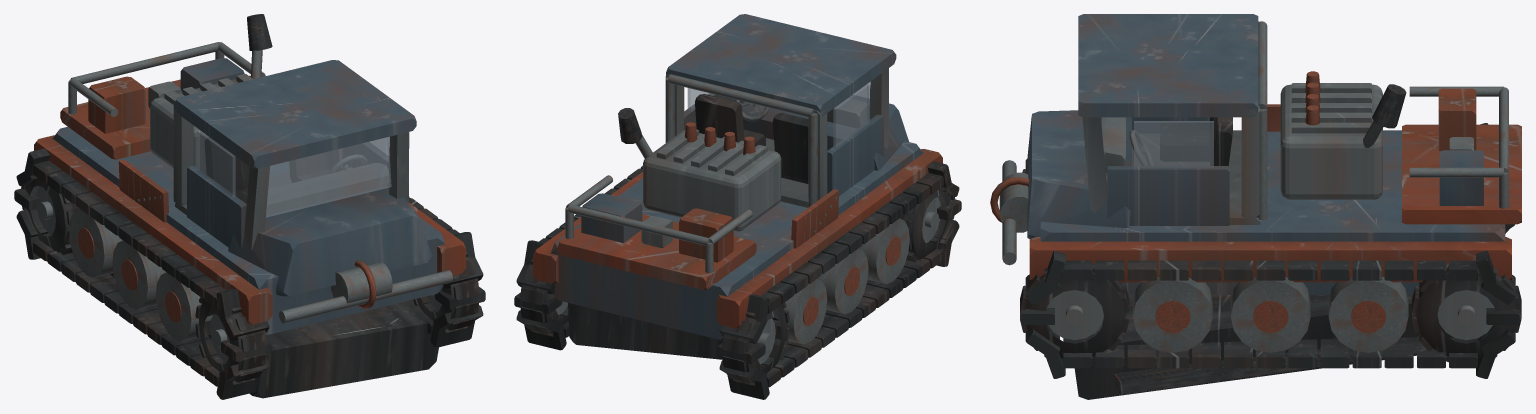
The model's file is rebelCrawler.glb.
The picture shows the model from 3 angles, left to right: view 1: azimuth 30°, elevation 25°; view 2: azimuth 150°, elevation 25°; view 3: azimuth 270°, elevation 25°; orthographic projection. The views are drawn at different scales.
Visible parts, largest first — view 1: rebelCrawler_body, wreckage_crawler_hull, rebelCrawler_glass, wheel_front_left, wheel_rear_left, wheel_front_right; view 2: rebelCrawler_body, wreckage_crawler_hull, wheel_rear_left, wheel_front_left, rebelCrawler_glass, wheel_rear_right; view 3: rebelCrawler_body, wreckage_crawler_hull, wheel_front_right, wheel_rear_right, rebelCrawler_glass.
Part boxes in pixels (bbox=[...]): rebelCrawler_body: bbox=[14, 14, 485, 399]; wreckage_crawler_hull: bbox=[109, 273, 438, 398]; rebelCrawler_glass: bbox=[197, 130, 391, 217]; wheel_front_left: bbox=[195, 297, 266, 385]; wheel_rear_left: bbox=[21, 178, 79, 254]; wheel_front_right: bbox=[413, 251, 479, 333]; rebelCrawler_body: bbox=[514, 14, 961, 399]; wreckage_crawler_hull: bbox=[568, 303, 789, 359]; wheel_rear_left: bbox=[722, 302, 789, 385]; wheel_front_left: bbox=[900, 189, 955, 262]; rebelCrawler_glass: bbox=[687, 82, 870, 147]; wheel_rear_right: bbox=[520, 259, 568, 336]; rebelCrawler_body: bbox=[990, 14, 1521, 378]; wreckage_crawler_hull: bbox=[1074, 295, 1481, 399]; wheel_front_right: bbox=[1020, 263, 1129, 362]; wheel_rear_right: bbox=[1412, 263, 1521, 362]; rebelCrawler_glass: bbox=[1101, 117, 1213, 167].
Size of what is drawn, in the model's own units: 3.08 by 2.91 by 4.79.
2 materials, 1 textured.
